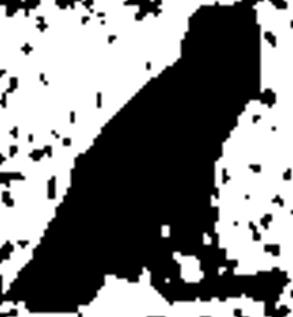Owl: (5, 2, 273, 312)
